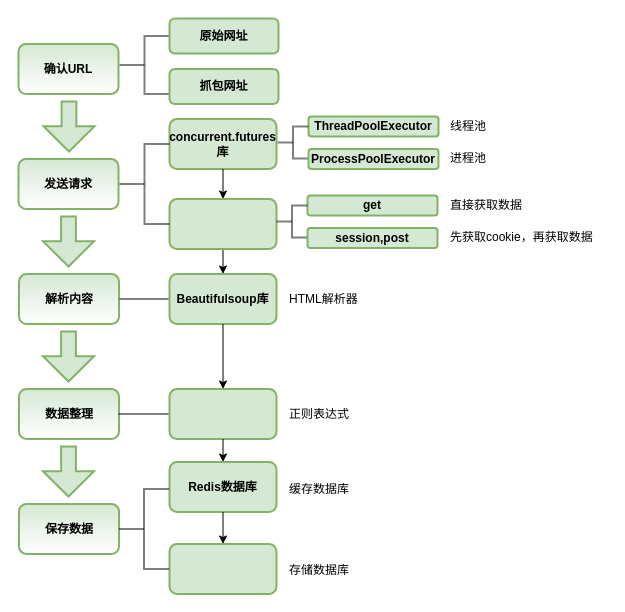
Image size: 625x612. Some labels were removed from this diagram. Each missing label, with the centre of its shape:
"MySQL数据库" belongs at (222,568).
"requests库" belongs at (222,224).
"re库" belongs at (222,414).
